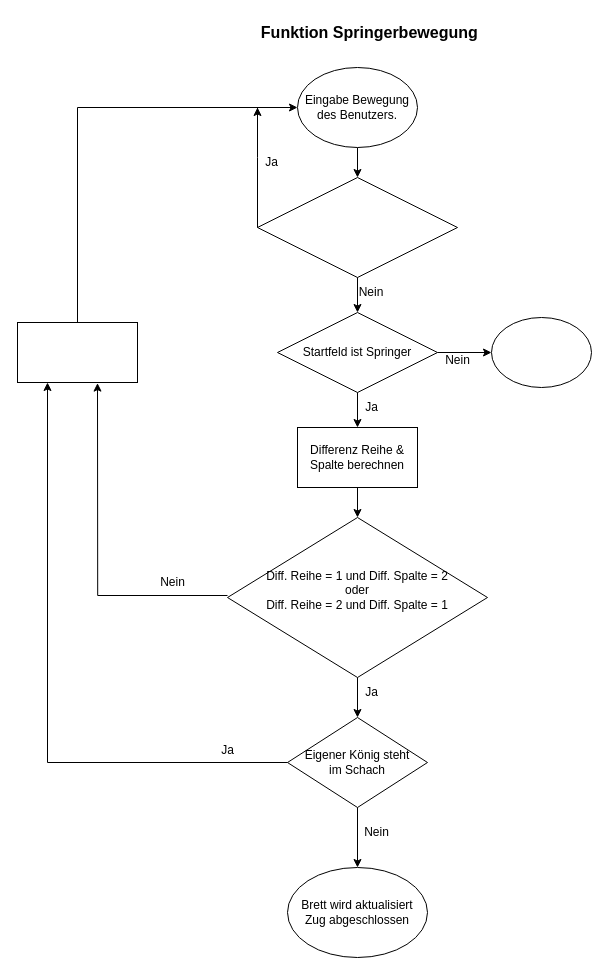
Some shapes in this 609 by 975 pixel diagram are drawn without their labels. The centre of each missing label's shape, as x and y in pixels:
"Entsprechende Funktion wird ausgeführt" goes at point 541,352.
"Fehlermeldung wird Angezeigt" goes at point 77,352.
"Zielfeld ist Besetzt (eigene Farbe) oder außerhalb des Brett" goes at point 357,227.
